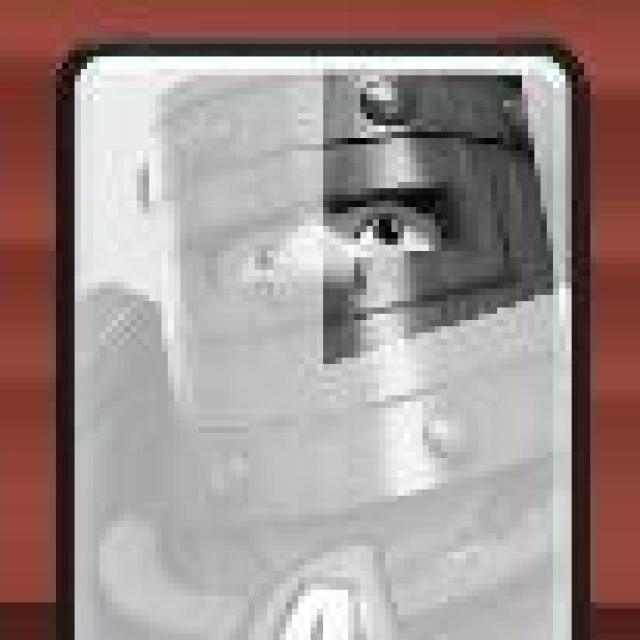Dark_Prince: (54, 41, 592, 640)
